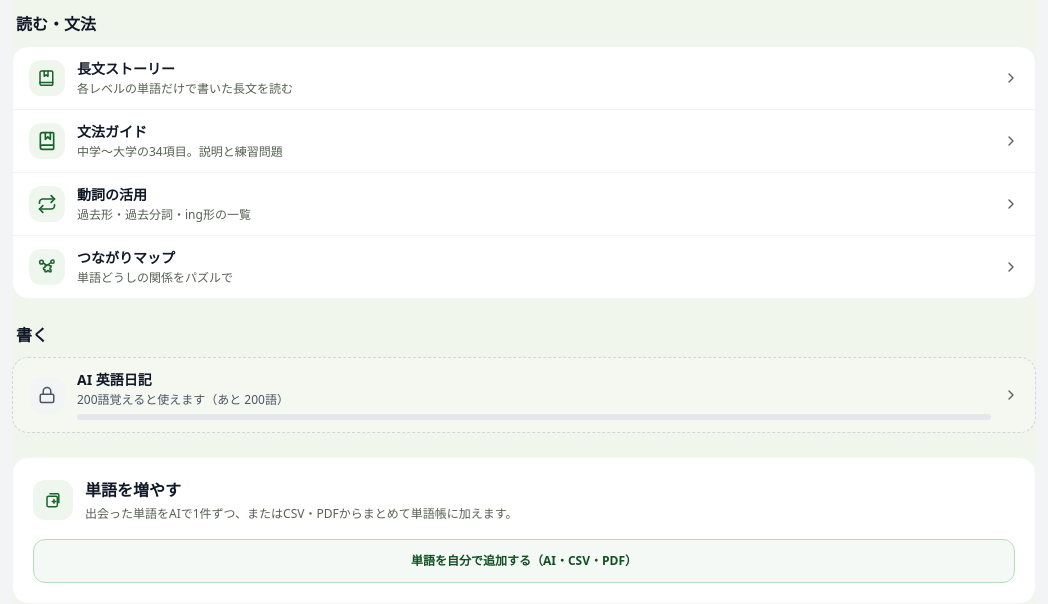
Test case: 単語を増やす › 押せば開く
The image size is (1048, 604).
(page scrolled)
Click the button with id "btn_toggle_import_panel": (524, 561) [33, 539, 1015, 583]
(page scrolled)
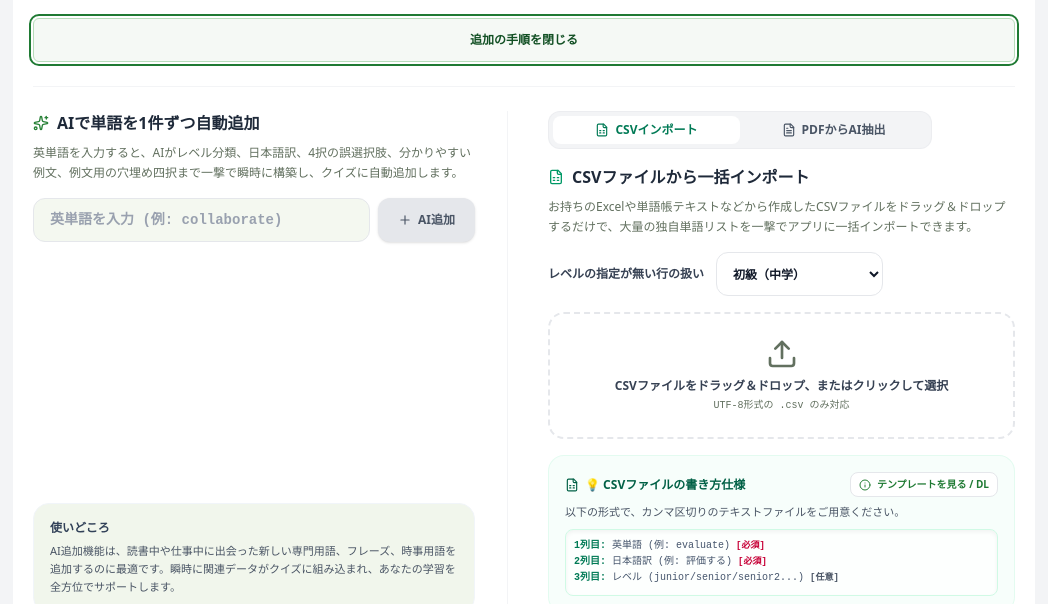
Check: the field with id "input_new_word" is shown, box [33, 198, 370, 242]
